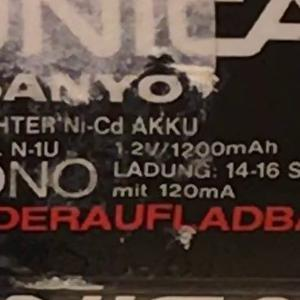NI-CD: (49, 108, 132, 137)
